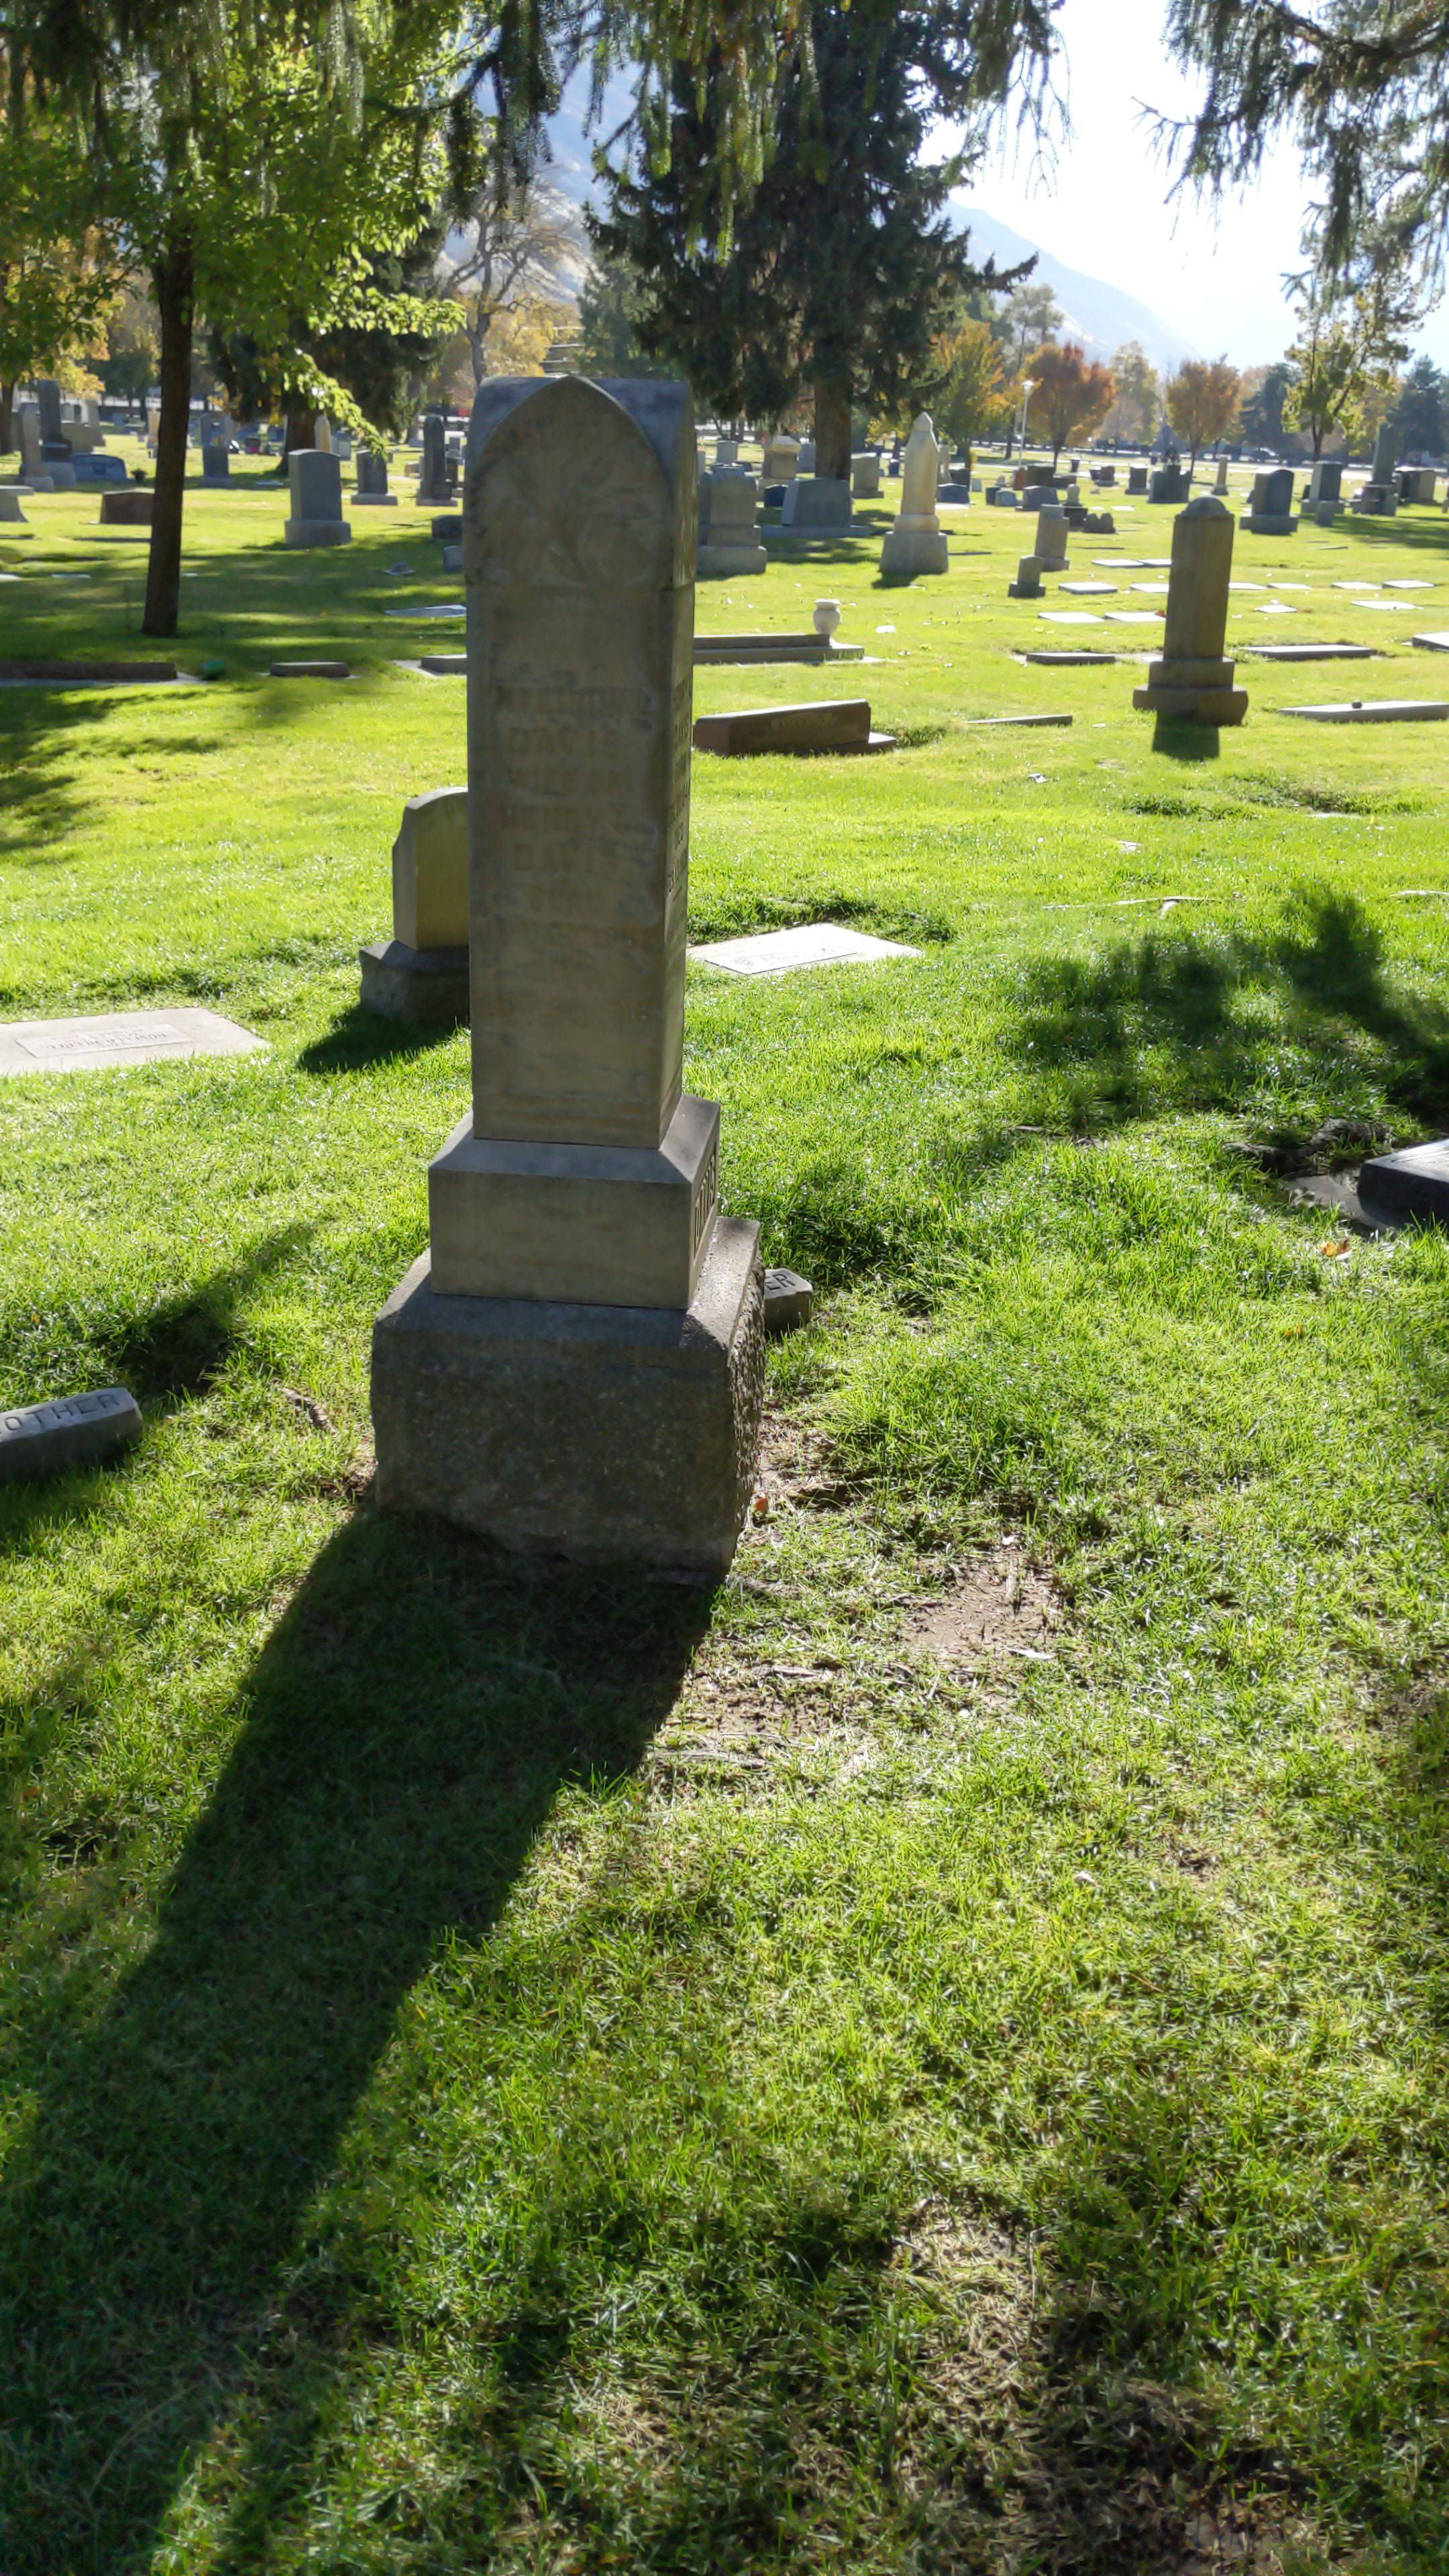obelisk: (433, 370, 709, 1299)
